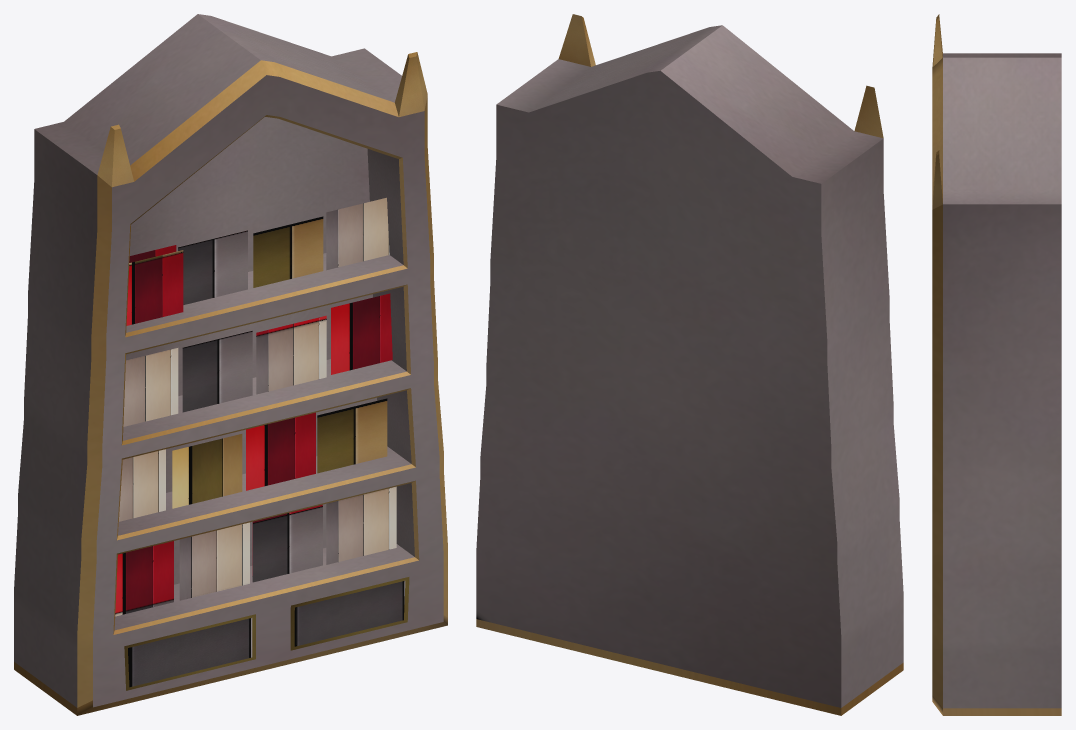
Rendered from SM_library_bookshelf_01.fbx.
The picture shows the model from 3 angles, left to right: view 1: azimuth 30°, elevation 25°; view 2: azimuth 150°, elevation 25°; view 3: azimuth 270°, elevation 25°; orthographic projection. The views are drawn at different scales.
Parts seen in each view (by area): view 1: SM_library_bookshelf_01; view 2: SM_library_bookshelf_01; view 3: SM_library_bookshelf_01.
Part boxes in pixels (x1,y1,x2,y2): SM_library_bookshelf_01: (14, 14, 447, 715); SM_library_bookshelf_01: (476, 14, 903, 715); SM_library_bookshelf_01: (932, 14, 1061, 715).
Bounding box in the file's own units: 2.1 × 3.31 × 0.6762.
